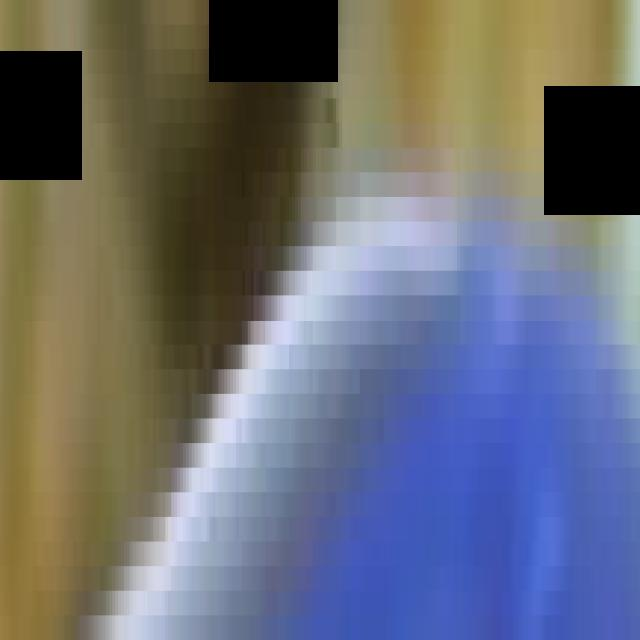fish: (3, 24, 640, 640)
